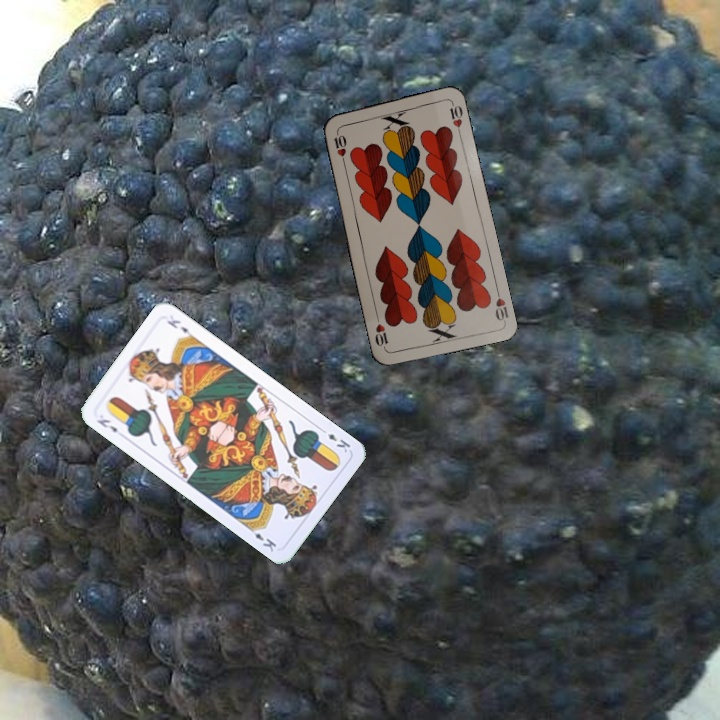EK: (316, 424, 353, 455), (93, 415, 120, 435)
H10: (491, 284, 511, 324), (330, 127, 349, 167)
